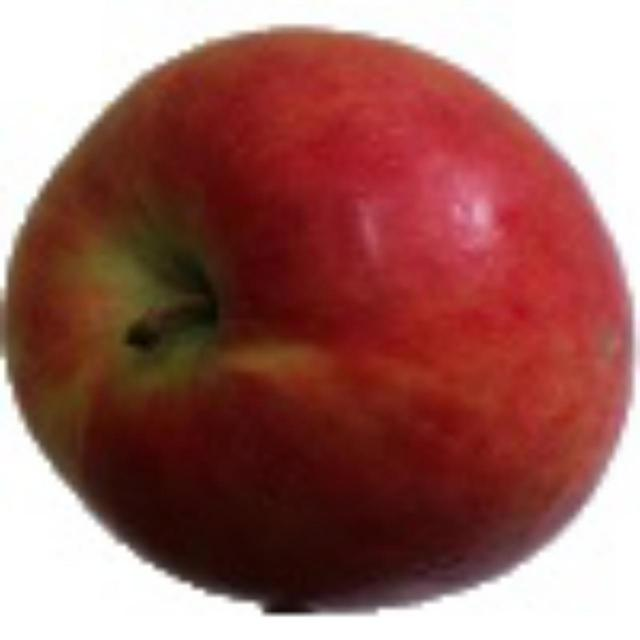apple: (0, 12, 634, 602)
